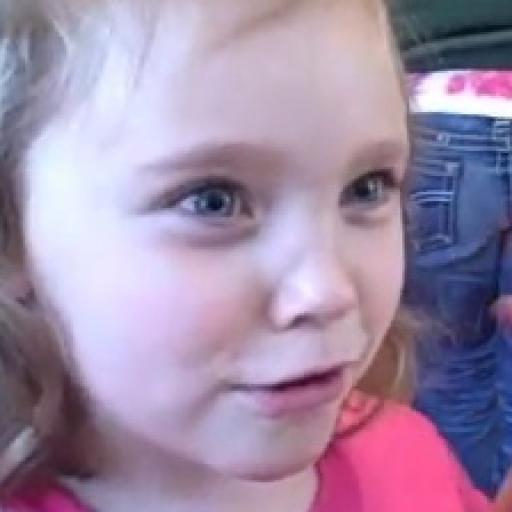Autism: (14, 0, 442, 485)
